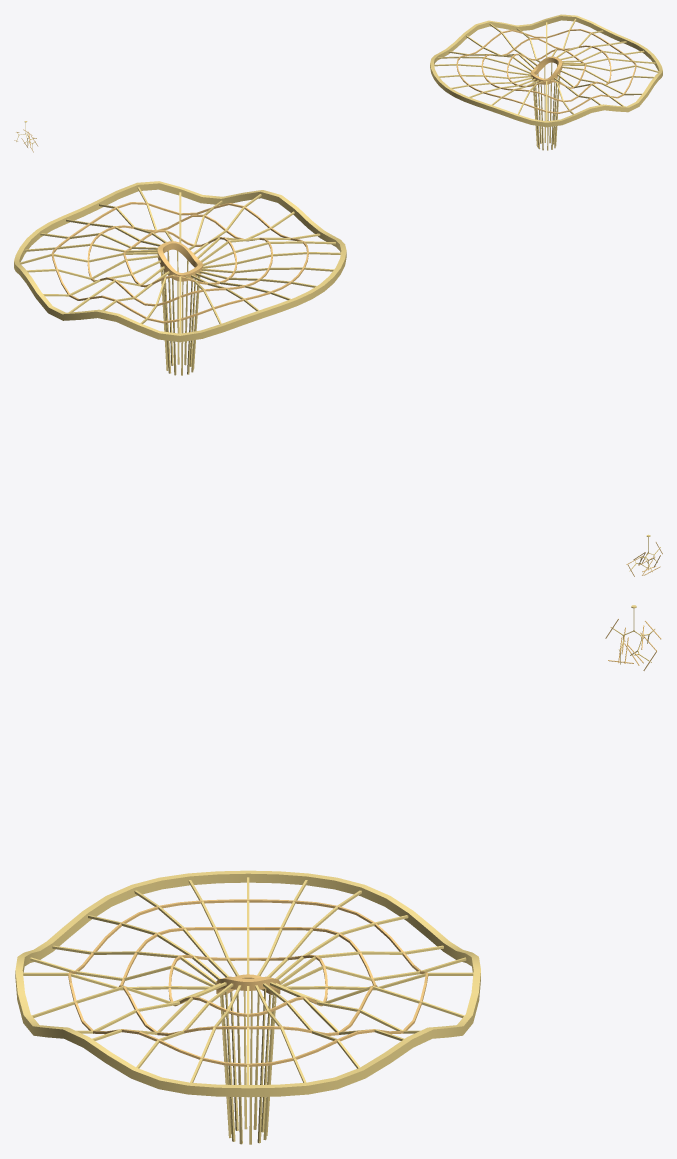
The model's file is Treedecor.fbx.
3 renders of one model, top to bottom at view 1: azimuth 30°, elevation 25°; view 2: azimuth 150°, elevation 25°; view 3: azimuth 270°, elevation 25°, orthographic. The views are drawn at different scales.
Visible parts, largest first — view 1: Treedecor; view 2: Treedecor; view 3: Treedecor.
Part boxes in pixels (left/top/right/bottom): Treedecor: left=14, top=14, right=662, bottom=152; Treedecor: left=14, top=181, right=662, bottom=576; Treedecor: left=15, top=605, right=661, bottom=1144.
Bounding box in the file's own units: 3374 × 507 × 1764.
